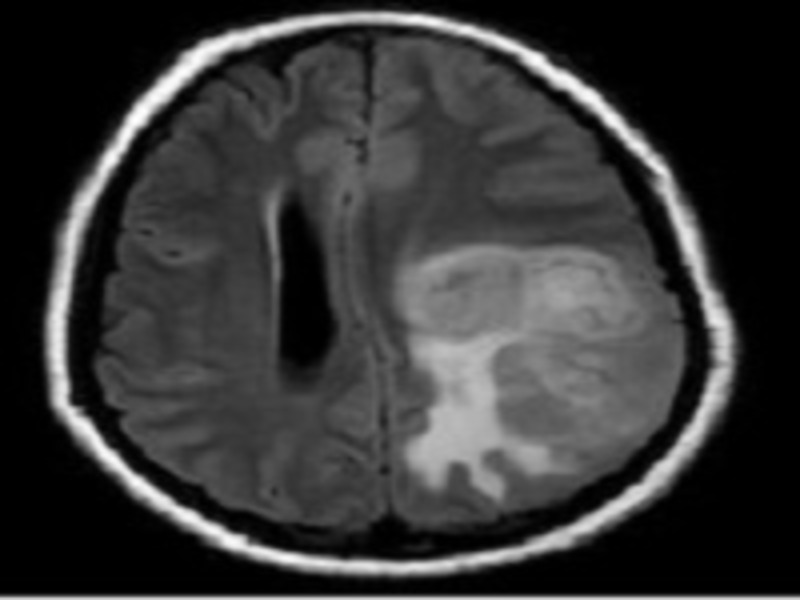tumor: (394, 327, 566, 504)
